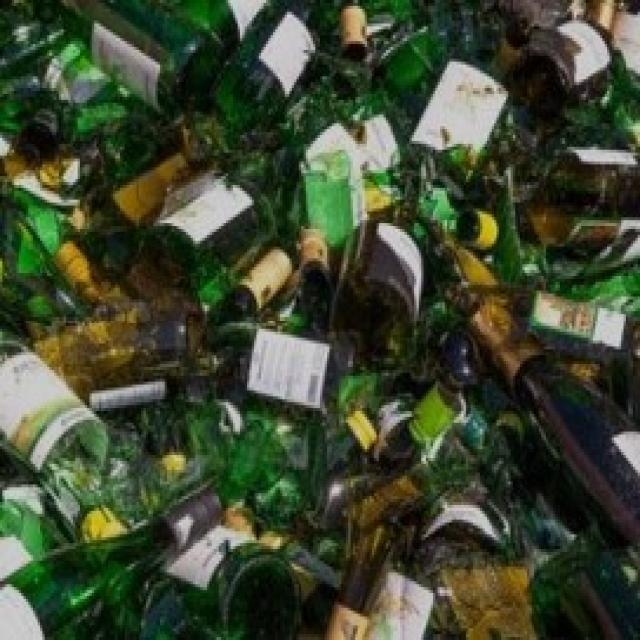electronic: (462, 280, 640, 556), (42, 0, 216, 120), (328, 180, 425, 380), (0, 332, 108, 496)
